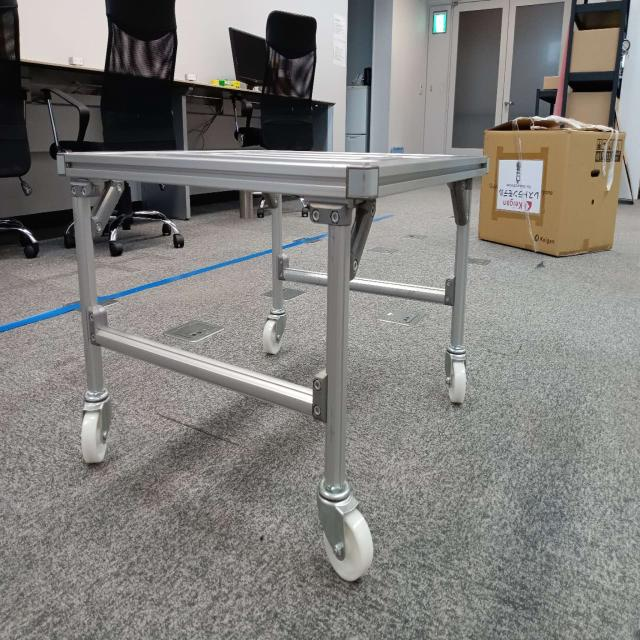box: (482, 117, 620, 259)
door: (342, 156, 474, 274)
side: (75, 153, 342, 423)
